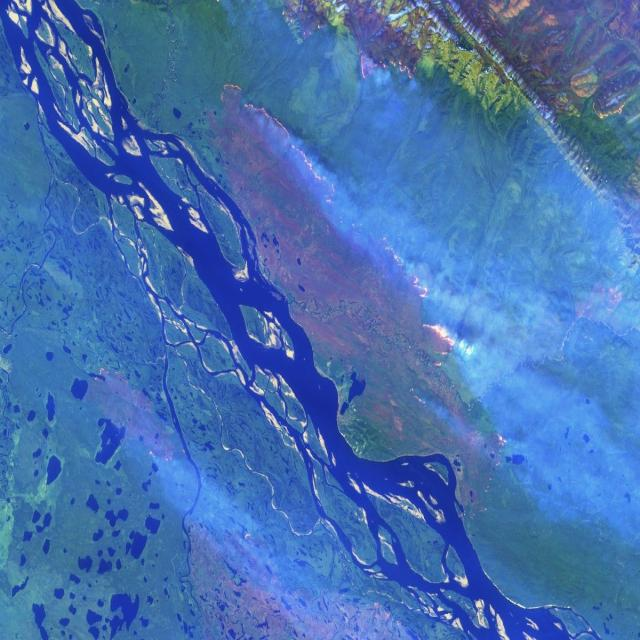fire: (215, 74, 478, 374), (264, 2, 420, 72)
